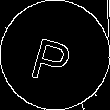P_N: (30, 26, 80, 84)
